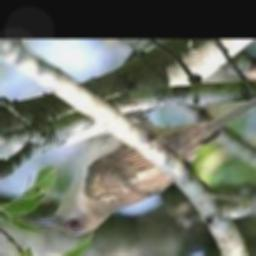Cuckoo: (34, 78, 256, 236)
